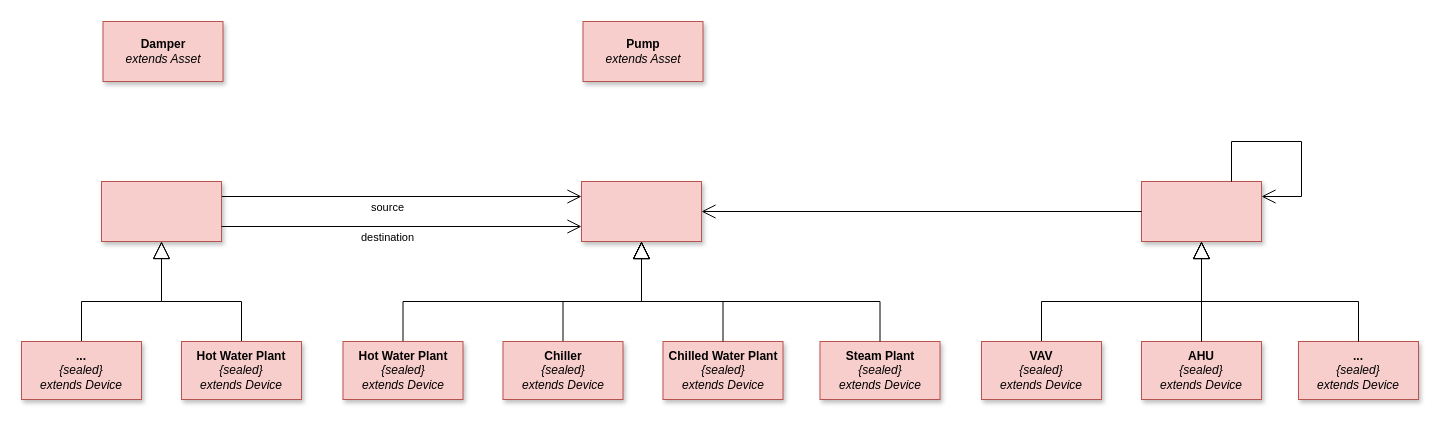
This 1442x424 diagram has some shape labels left out. The centre of each missing label's shape, as x and y in pixels:
"Thermal Distributor extends Asset" goes at (1202,212).
"Thermal Exchanger extends Asset" goes at (162,212).
"Thermal Source extends Asset" goes at (642,212).
